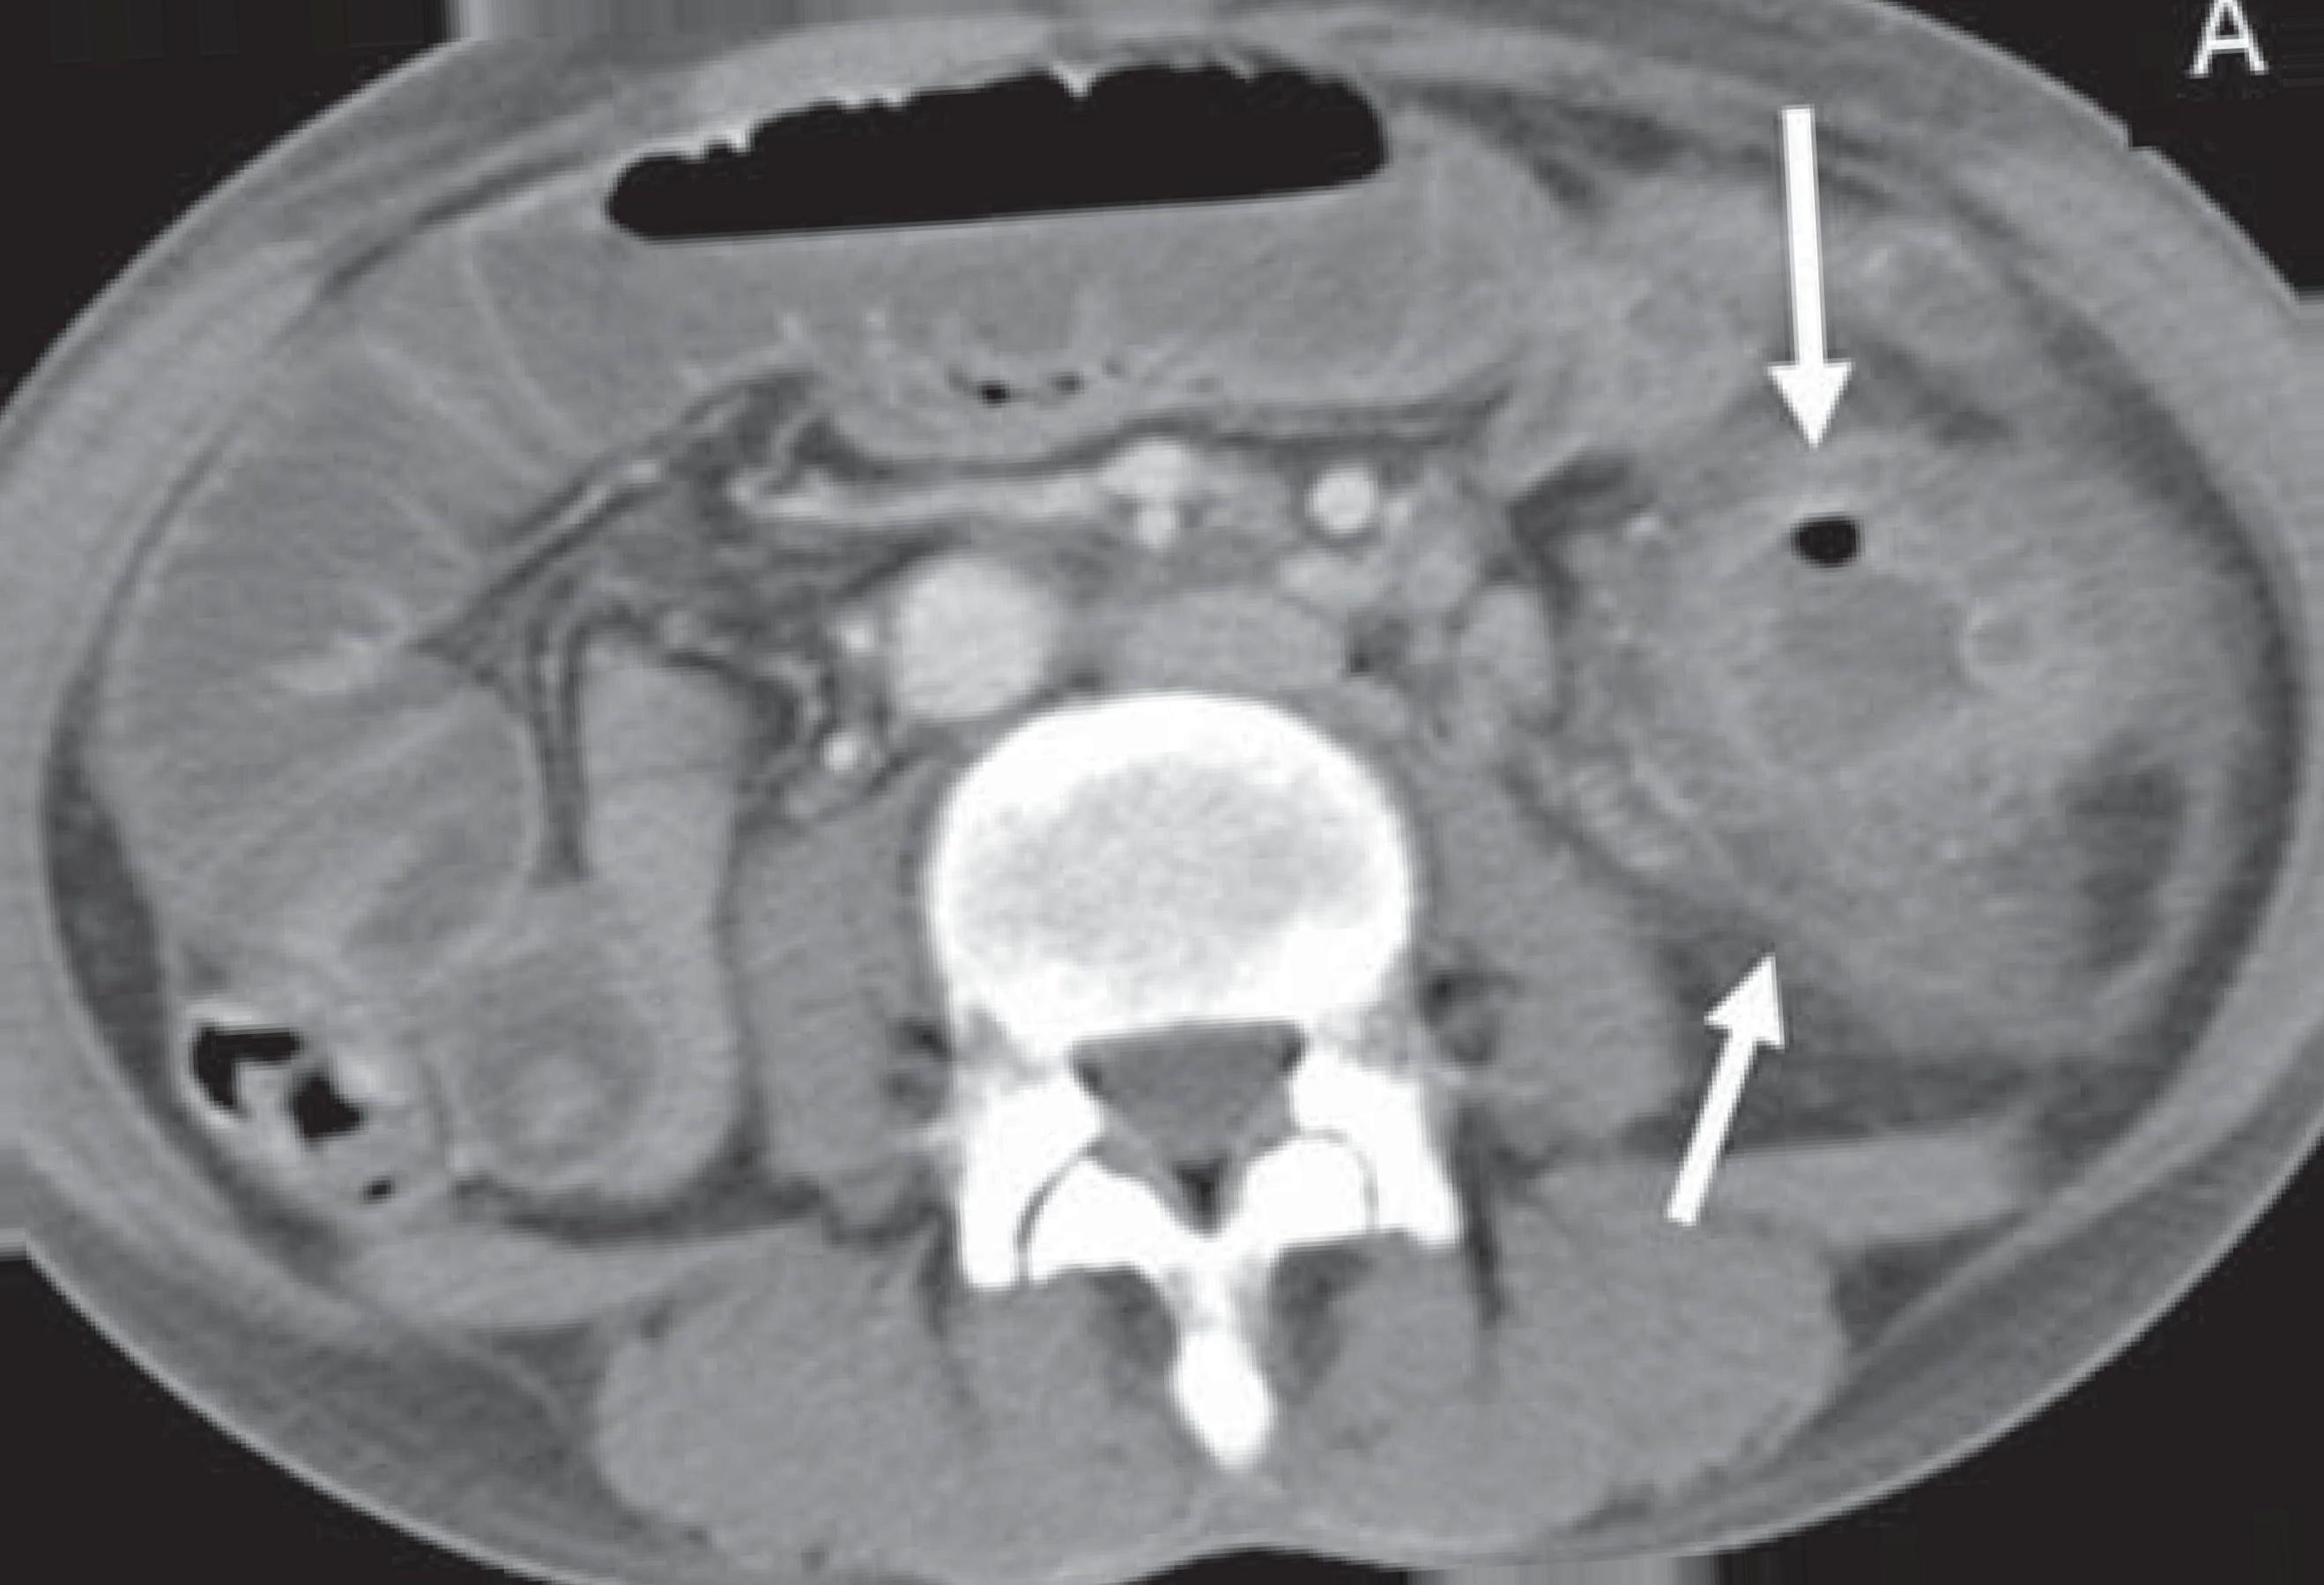anomaly: (1725, 544, 2031, 825)
